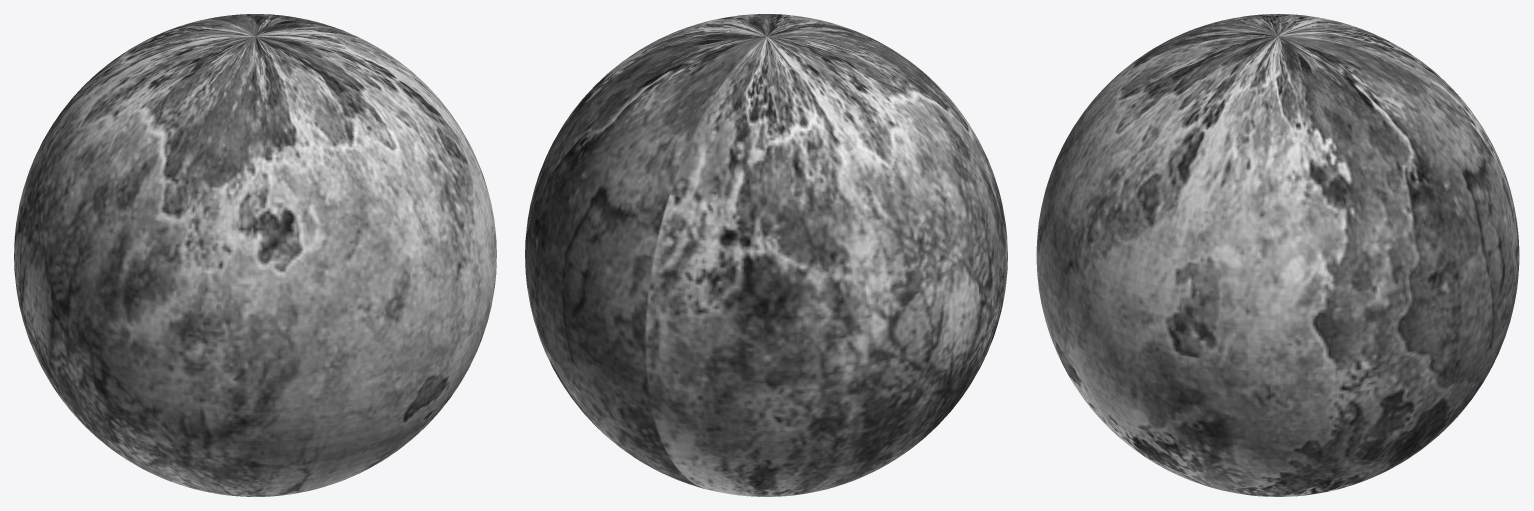
Rendered from Planet.obj.
3 views of the same model, side by side, from view 1: azimuth 30°, elevation 25°; view 2: azimuth 150°, elevation 25°; view 3: azimuth 270°, elevation 25° (orthographic).
Visible parts, largest first — view 1: Mesh1 Component1 skpF9DE1 Model; view 2: Mesh1 Component1 skpF9DE1 Model; view 3: Mesh1 Component1 skpF9DE1 Model.
Part boxes in pixels (x1,y1,x2,y2): Mesh1 Component1 skpF9DE1 Model: [14, 14, 496, 496]; Mesh1 Component1 skpF9DE1 Model: [525, 14, 1007, 496]; Mesh1 Component1 skpF9DE1 Model: [1036, 14, 1519, 496].
Size of the model in its own units: 285 by 285 by 285.
Materials: 1 (1 with a texture image).
